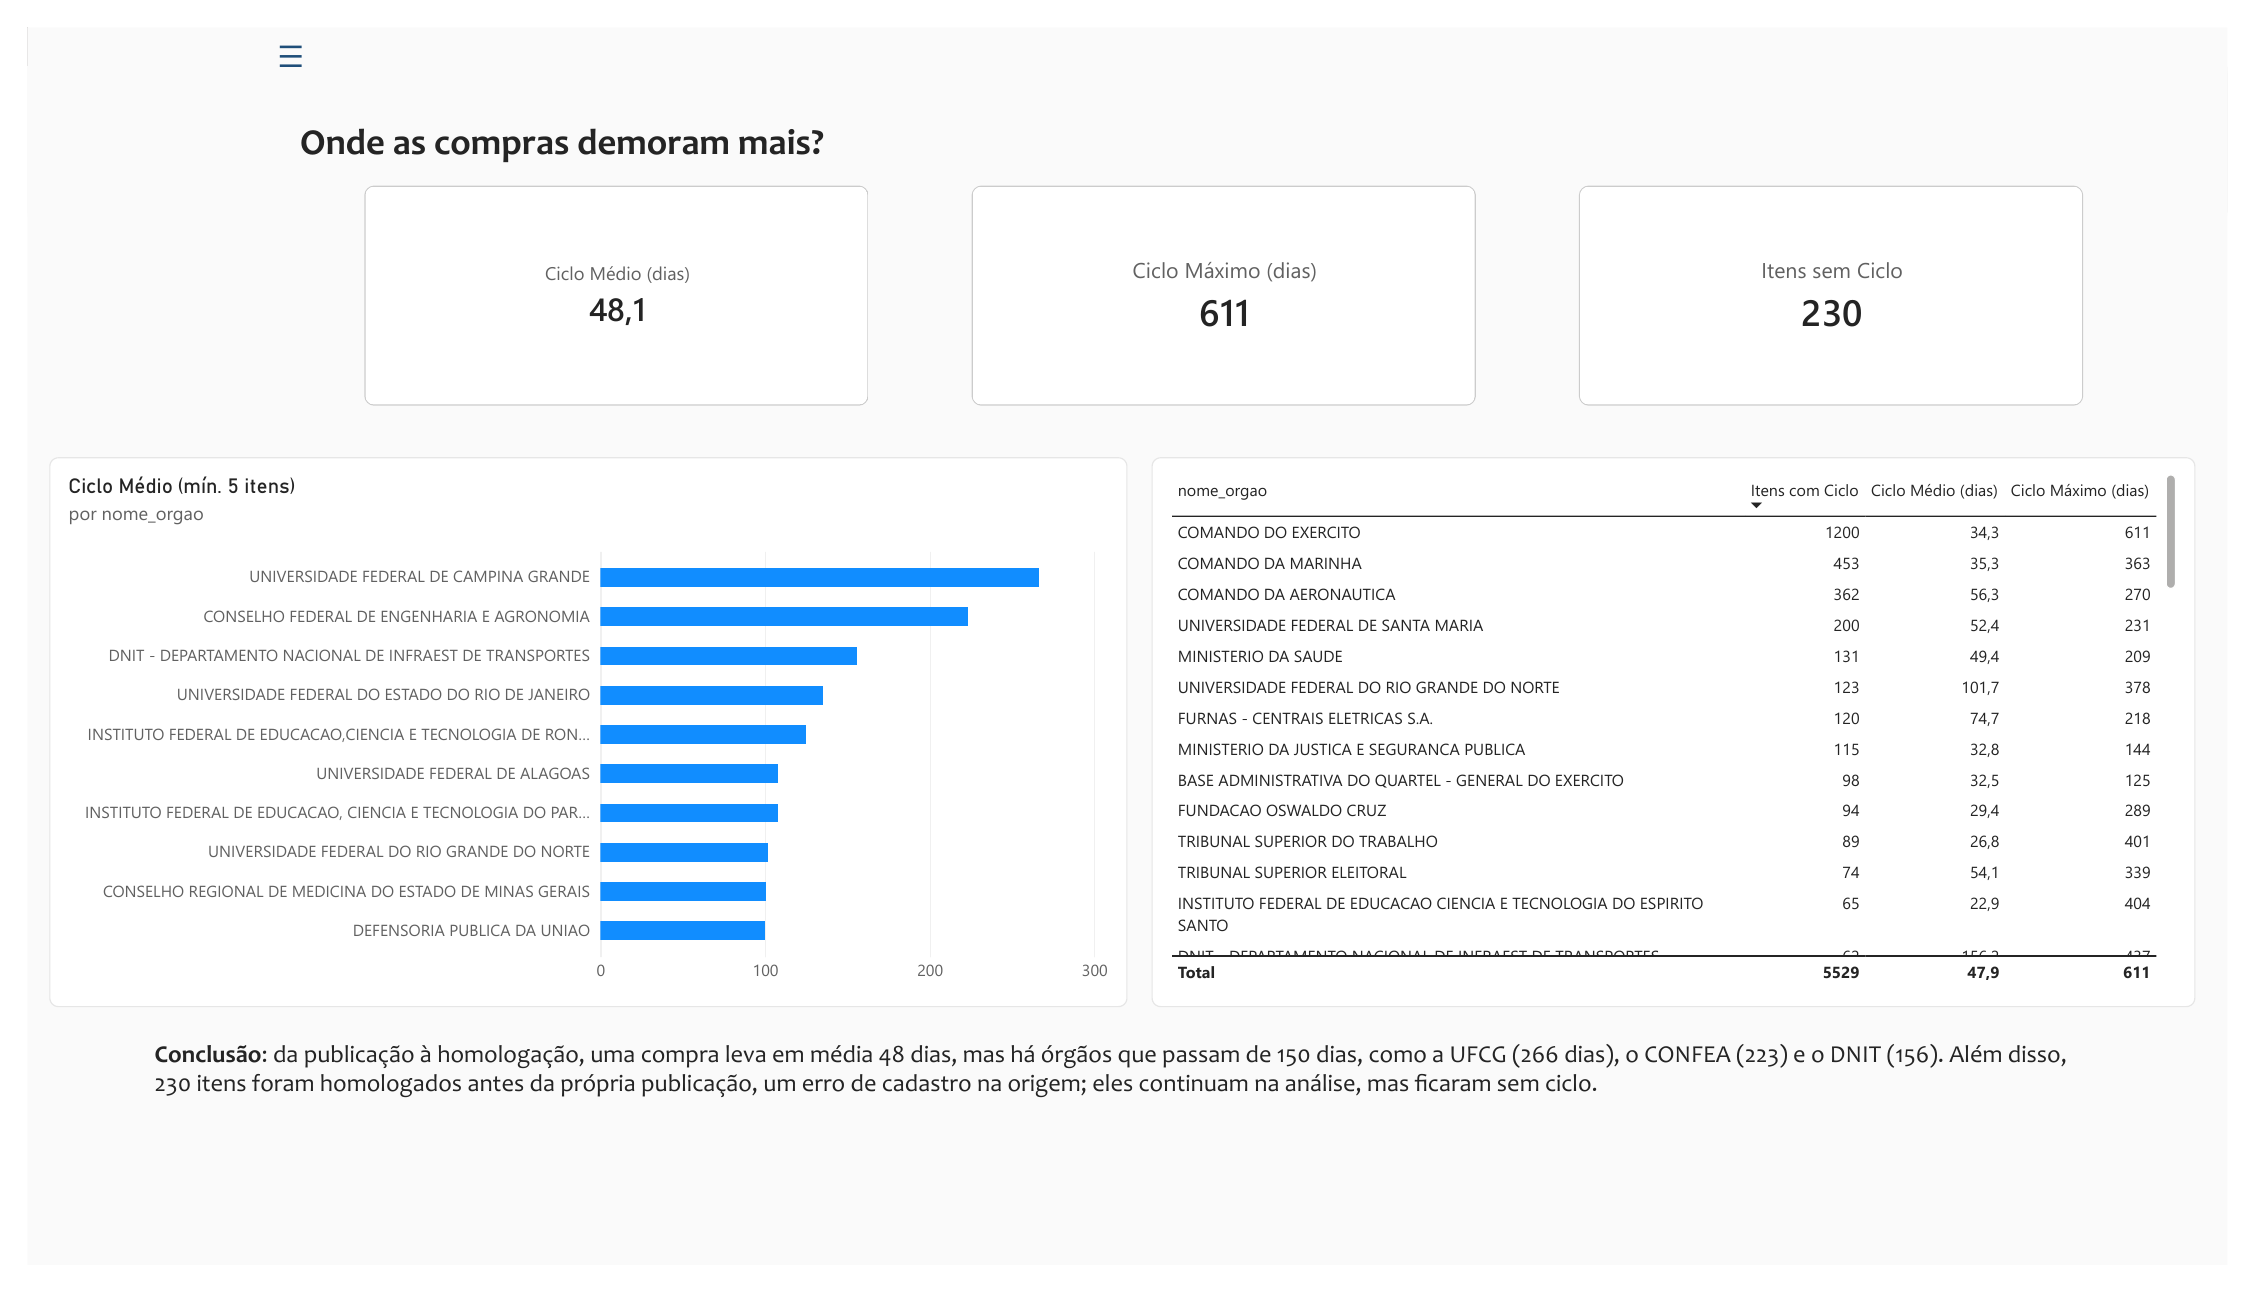

The dashboard page shown, as its layout file describes it:
{"tool":"powerbi","page":{"name":"P4 Ciclo","canvas":[1920,1080],"ordinal":3},"visuals":[{"type":"textbox","box":[238.3,80.6,992.6,65.1],"z":0},{"type":"cardVisual","fields":{"Data":["Medidas.Ciclo Médio (dias)"]},"box":[294,138,440,192],"z":1000},{"type":"cardVisual","fields":{"Data":["Medidas.Ciclo Máximo (dias)"]},"box":[824,138,440,192],"z":2000},{"type":"textbox","box":[111.4,882.9,1695.4,101.1],"z":3000},{"type":"tableEx","fields":{"Values":["dim_orgao.nome_orgao","Medidas.Itens com Ciclo","Medidas.Ciclo Médio (dias)","Medidas.Ciclo Máximo (dias)"]},"box":[981.1,374.6,910.8,480],"z":4000},{"type":"cardVisual","fields":{"Data":["Medidas.Itens sem Ciclo"]},"box":[1354,138,440,192],"z":5000},{"type":"clusteredBarChart","fields":{"Category":["dim_orgao.nome_orgao"],"Y":["Medidas.Ciclo Médio (mín. 5 itens)"]},"box":[18.7,374.6,941.3,480],"z":6000},{"type":"actionButton","title":"Botao abrir","box":[200.6,0,58.3,39.4],"z":7000}]}

Visuals, with their boxes in screenshot pixels (x1, y1, x2, y2), scaled from the page's 1920x1080 canvas onto the 2255x1293 screenshot:
textbox: BBox(280, 96, 1446, 174)
cardVisual - Medidas.Ciclo Médio (dias): BBox(345, 165, 862, 395)
cardVisual - Medidas.Ciclo Máximo (dias): BBox(968, 165, 1485, 395)
textbox: BBox(131, 1057, 2122, 1178)
tableEx - dim_orgao.nome_orgao x Medidas.Itens com Ciclo: BBox(1152, 448, 2222, 1023)
cardVisual - Medidas.Itens sem Ciclo: BBox(1590, 165, 2107, 395)
clusteredBarChart - dim_orgao.nome_orgao x Medidas.Ciclo Médio (mín. 5 itens): BBox(22, 448, 1128, 1023)
"Botao abrir" actionButton: BBox(236, 0, 304, 47)
